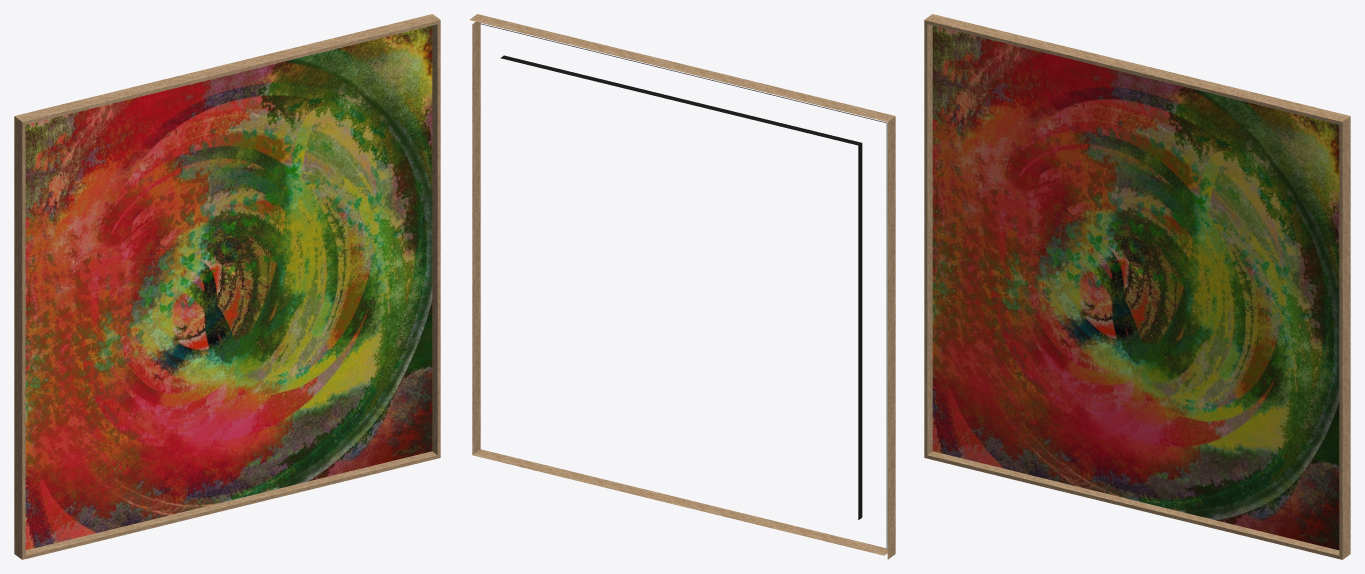
The model's file is va181_grand_caisse-chene.glb.
The picture shows the model from 3 angles, left to right: view 1: azimuth 30°, elevation 25°; view 2: azimuth 150°, elevation 25°; view 3: azimuth 330°, elevation 25°; orthographic projection.
Visible parts, largest first — view 1: va181_grand_caisse-chene; view 2: va181_grand_caisse-chene; view 3: va181_grand_caisse-chene.
Part boxes in pixels (x1=…): va181_grand_caisse-chene: x1=14, y1=14, x2=440, y2=559; va181_grand_caisse-chene: x1=469, y1=14, x2=895, y2=559; va181_grand_caisse-chene: x1=924, y1=14, x2=1350, y2=559.
Bounding box in the file's own units: 1.03 × 1.03 × 0.035.
Materials: 4 (2 with a texture image).
